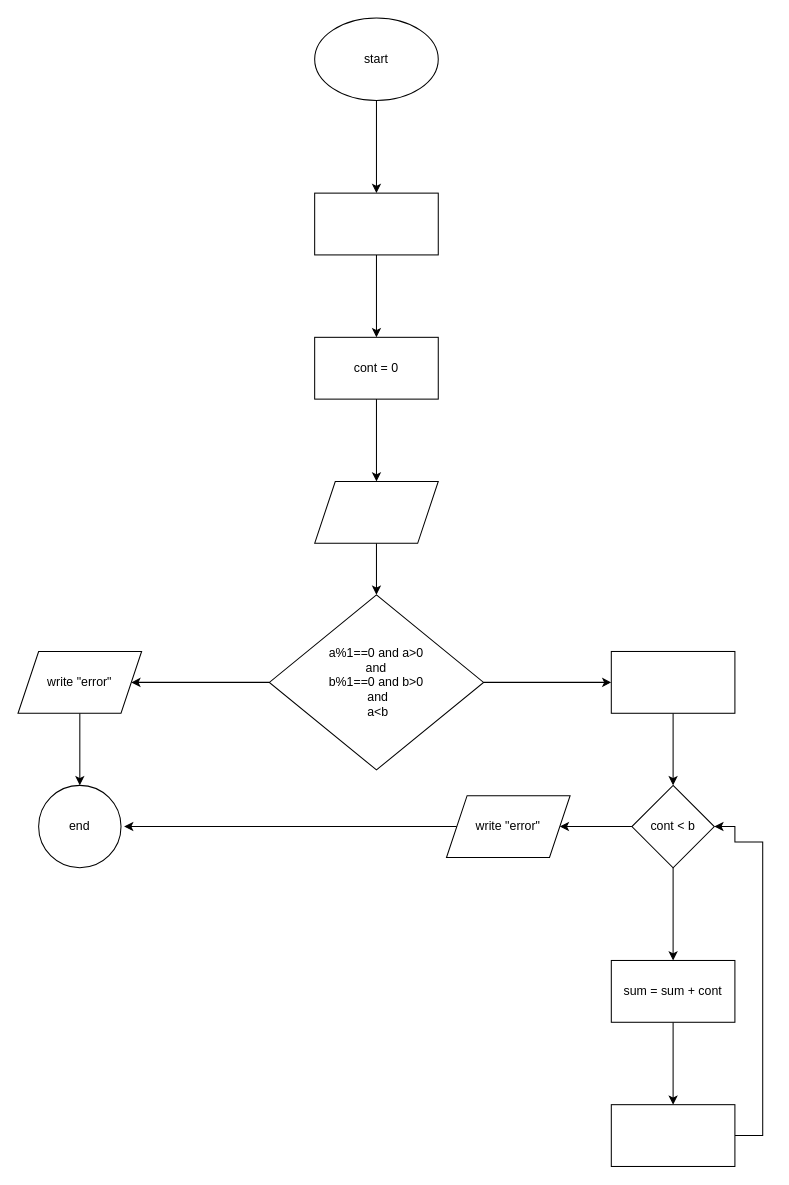
Some shapes in this 789 by 1185 pixel diagram are drawn without their labels. Each missing label, with the centre of its shape:
"cont += 1" belongs at (x=672, y=1135).
"cont = a" belongs at (x=672, y=681).
"read a, b" belongs at (x=376, y=511).
"sum = 0" belongs at (x=376, y=223).
